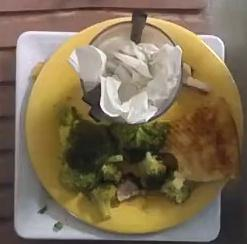broccoli: (60, 107, 191, 219)
pizza_crust: (157, 88, 242, 182)
